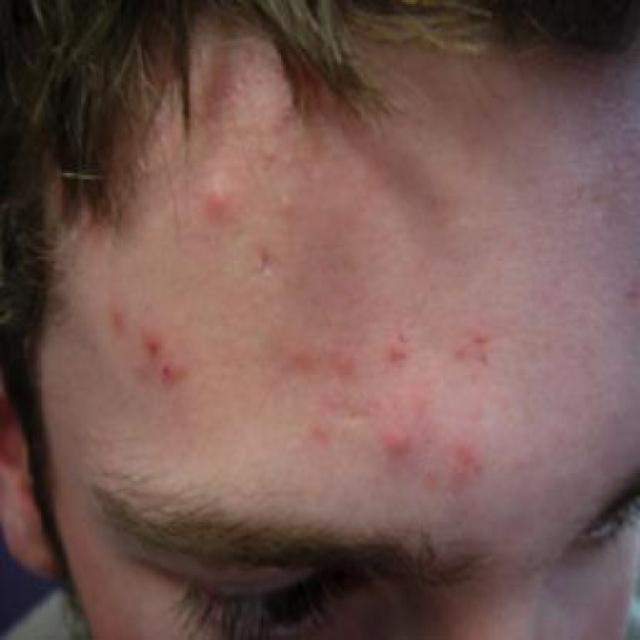blackheads: (151, 354, 194, 406)
nodules: (196, 159, 247, 245), (369, 412, 438, 469)
